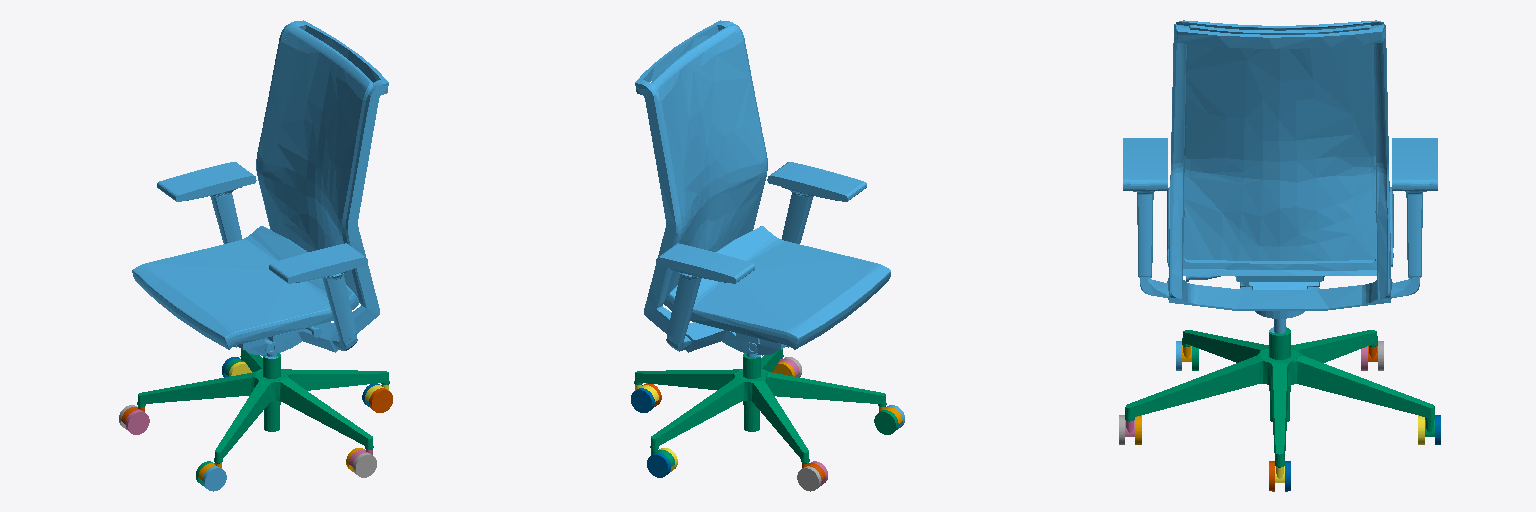
The robot description file, URDF, robot "partnet_99120ec1daa4ae1bad484915511ccff6":
<?xml version="1.0" encoding="utf-8"?>
<robot name="partnet_99120ec1daa4ae1bad484915511ccff6">
 <link name="base"/>
 <link name="link_0">
  <visual name="lever-76">
   <origin xyz="-0.12042415942996744 0.17889561294307413 0"/>
   <geometry>
    <mesh filename="textured_objs/original-30.obj"/>
   </geometry>
  </visual>
  <visual name="lever-76">
   <origin xyz="-0.12042415942996744 0.17889561294307413 0"/>
   <geometry>
    <mesh filename="textured_objs/original-32.obj"/>
   </geometry>
  </visual>
  <visual name="lever-76">
   <origin xyz="-0.12042415942996744 0.17889561294307413 0"/>
   <geometry>
    <mesh filename="textured_objs/original-31.obj"/>
   </geometry>
  </visual>
  <collision>
   <geometry>
    <mesh filename="cvx_objs/link_0.obj"/>
   </geometry>
  </collision>
 </link>
 <joint name="joint_0" type="revolute">
  <origin xyz="0.13219904197639668 -0.17889561294307413 -0.022481716908374236"/>
  <axis xyz="0 0 -1"/>
  <child link="link_0"/>
  <parent link="link_16"/>
  <limit lower="-0.0" upper="0.3204424506661591"/>
 </joint>
 <link name="link_1">
  <visual name="caster_stem-102">
   <origin xyz="0.5227210218181609 0 0.14397391162969364"/>
   <geometry>
    <mesh filename="textured_objs/original-46.obj"/>
   </geometry>
  </visual>
  <collision>
   <geometry>
    <mesh filename="cvx_objs/link_1.obj"/>
   </geometry>
  </collision>
 </link>
 <joint name="joint_1" type="continuous">
  <origin xyz="-0.5227210218181609 0 -0.14397391162969364"/>
  <axis xyz="0 1 0"/>
  <child link="link_1"/>
  <parent link="link_17"/>
 </joint>
 <link name="link_2">
  <visual name="wheel-103">
   <origin xyz="-0.0065671911528872055 0.7060431671475953 0.10813501688948095"/>
   <geometry>
    <mesh filename="textured_objs/original-44.obj"/>
   </geometry>
  </visual>
  <collision>
   <geometry>
    <mesh filename="cvx_objs/link_2.obj"/>
   </geometry>
  </collision>
 </link>
 <joint name="joint_2" type="continuous">
  <origin xyz="0.5292882129710481 -0.7060431671475953 0.03583889474021269"/>
  <axis xyz="0.9999566980936941 0.009305959844037686 -3.238730896646673e-05"/>
  <child link="link_2"/>
  <parent link="link_1"/>
 </joint>
 <link name="link_3">
  <visual name="wheel-104">
   <origin xyz="0 0.7107210056808267 0.10811899999999999"/>
   <geometry>
    <mesh filename="textured_objs/original-45.obj"/>
   </geometry>
  </visual>
  <collision>
   <geometry>
    <mesh filename="cvx_objs/link_3.obj"/>
   </geometry>
  </collision>
 </link>
 <joint name="joint_3" type="continuous">
  <origin xyz="0.5227210218181609 -0.7107210056808267 0.03585491162969365"/>
  <axis xyz="1 0 0"/>
  <child link="link_3"/>
  <parent link="link_1"/>
 </joint>
 <link name="link_4">
  <visual name="caster_stem-99">
   <origin xyz="0.32877011449438337 0 -0.4601039954670883"/>
   <geometry>
    <mesh filename="textured_objs/original-38.obj"/>
   </geometry>
  </visual>
  <collision>
   <geometry>
    <mesh filename="cvx_objs/link_4.obj"/>
   </geometry>
  </collision>
 </link>
 <joint name="joint_4" type="continuous">
  <origin xyz="-0.32877011449438337 0 0.4601039954670883"/>
  <axis xyz="0 1 0"/>
  <child link="link_4"/>
  <parent link="link_17"/>
 </joint>
 <link name="link_5">
  <visual name="wheel-100">
   <origin xyz="0 0.7107210056808267 -0.495245"/>
   <geometry>
    <mesh filename="textured_objs/original-36.obj"/>
   </geometry>
  </visual>
  <collision>
   <geometry>
    <mesh filename="cvx_objs/link_5.obj"/>
   </geometry>
  </collision>
 </link>
 <joint name="joint_5" type="continuous">
  <origin xyz="0.32877011449438337 -0.7107210056808267 0.03514100453291169"/>
  <axis xyz="-1 0 0"/>
  <child link="link_5"/>
  <parent link="link_4"/>
 </joint>
 <link name="link_6">
  <visual name="wheel-101">
   <origin xyz="0 0.7107210056808267 -0.495245"/>
   <geometry>
    <mesh filename="textured_objs/original-37.obj"/>
   </geometry>
  </visual>
  <collision>
   <geometry>
    <mesh filename="cvx_objs/link_6.obj"/>
   </geometry>
  </collision>
 </link>
 <joint name="joint_6" type="continuous">
  <origin xyz="0.32877011449438337 -0.7107210056808267 0.03514100453291169"/>
  <axis xyz="-1 0 0"/>
  <child link="link_6"/>
  <parent link="link_4"/>
 </joint>
 <link name="link_7">
  <visual name="caster_stem-96">
   <origin xyz="-0.30586192690503605 0 -0.4606418216372392"/>
   <geometry>
    <mesh filename="textured_objs/original-42.obj"/>
   </geometry>
  </visual>
  <collision>
   <geometry>
    <mesh filename="cvx_objs/link_7.obj"/>
   </geometry>
  </collision>
 </link>
 <joint name="joint_7" type="continuous">
  <origin xyz="0.30586192690503605 0 0.4606418216372392"/>
  <axis xyz="0 1 0"/>
  <child link="link_7"/>
  <parent link="link_17"/>
 </joint>
 <link name="link_8">
  <visual name="wheel-97">
   <origin xyz="0 0.7107210056808267 -0.495245"/>
   <geometry>
    <mesh filename="textured_objs/original-40.obj"/>
   </geometry>
  </visual>
  <collision>
   <geometry>
    <mesh filename="cvx_objs/link_8.obj"/>
   </geometry>
  </collision>
 </link>
 <joint name="joint_8" type="continuous">
  <origin xyz="-0.30586192690503605 -0.7107210056808267 0.03460317836276078"/>
  <axis xyz="-1 0 0"/>
  <child link="link_8"/>
  <parent link="link_7"/>
 </joint>
 <link name="link_9">
  <visual name="wheel-98">
   <origin xyz="0 0.7107210056808267 -0.495245"/>
   <geometry>
    <mesh filename="textured_objs/original-41.obj"/>
   </geometry>
  </visual>
  <collision>
   <geometry>
    <mesh filename="cvx_objs/link_9.obj"/>
   </geometry>
  </collision>
 </link>
 <joint name="joint_9" type="continuous">
  <origin xyz="-0.30586192690503605 -0.7107210056808267 0.03460317836276078"/>
  <axis xyz="-1 0 0"/>
  <child link="link_9"/>
  <parent link="link_7"/>
 </joint>
 <link name="link_10">
  <visual name="caster_stem-93">
   <origin xyz="0.010786704643964765 0 0.5170993392990177"/>
   <geometry>
    <mesh filename="textured_objs/original-54.obj"/>
   </geometry>
  </visual>
  <collision>
   <geometry>
    <mesh filename="cvx_objs/link_10.obj"/>
   </geometry>
  </collision>
 </link>
 <joint name="joint_10" type="continuous">
  <origin xyz="-0.010786704643964765 0 -0.5170993392990177"/>
  <axis xyz="0 1 0"/>
  <child link="link_10"/>
  <parent link="link_17"/>
 </joint>
 <link name="link_11">
  <visual name="wheel-94">
   <origin xyz="0 0.7107210056808267 0.481251"/>
   <geometry>
    <mesh filename="textured_objs/original-53.obj"/>
   </geometry>
  </visual>
  <collision>
   <geometry>
    <mesh filename="cvx_objs/link_11.obj"/>
   </geometry>
  </collision>
 </link>
 <joint name="joint_11" type="continuous">
  <origin xyz="0.010786704643964765 -0.7107210056808267 0.03584833929901776"/>
  <axis xyz="1 0 0"/>
  <child link="link_11"/>
  <parent link="link_10"/>
 </joint>
 <link name="link_12">
  <visual name="wheel-95">
   <origin xyz="0 0.7107210056808267 0.481251"/>
   <geometry>
    <mesh filename="textured_objs/original-52.obj"/>
   </geometry>
  </visual>
  <collision>
   <geometry>
    <mesh filename="cvx_objs/link_12.obj"/>
   </geometry>
  </collision>
 </link>
 <joint name="joint_12" type="continuous">
  <origin xyz="0.010786704643964765 -0.7107210056808267 0.03584833929901776"/>
  <axis xyz="1 0 0"/>
  <child link="link_12"/>
  <parent link="link_10"/>
 </joint>
 <link name="link_13">
  <visual name="caster_stem-87">
   <origin xyz="-0.502498314630747 0 0.14401355345049882"/>
   <geometry>
    <mesh filename="textured_objs/original-50.obj"/>
   </geometry>
  </visual>
  <collision>
   <geometry>
    <mesh filename="cvx_objs/link_13.obj"/>
   </geometry>
  </collision>
 </link>
 <joint name="joint_13" type="continuous">
  <origin xyz="0.502498314630747 0 -0.14401355345049882"/>
  <axis xyz="0 1 0"/>
  <child link="link_13"/>
  <parent link="link_17"/>
 </joint>
 <link name="link_14">
  <visual name="wheel-88">
   <origin xyz="0 0.7107210056808267 0.10811899999999999"/>
   <geometry>
    <mesh filename="textured_objs/original-48.obj"/>
   </geometry>
  </visual>
  <collision>
   <geometry>
    <mesh filename="cvx_objs/link_14.obj"/>
   </geometry>
  </collision>
 </link>
 <joint name="joint_14" type="continuous">
  <origin xyz="-0.502498314630747 -0.7107210056808267 0.03589455345049883"/>
  <axis xyz="-1 0 0"/>
  <child link="link_14"/>
  <parent link="link_13"/>
 </joint>
 <link name="link_15">
  <visual name="wheel-89">
   <origin xyz="0 0.7107210056808267 0.10811899999999999"/>
   <geometry>
    <mesh filename="textured_objs/original-49.obj"/>
   </geometry>
  </visual>
  <collision>
   <geometry>
    <mesh filename="cvx_objs/link_15.obj"/>
   </geometry>
  </collision>
 </link>
 <joint name="joint_15" type="continuous">
  <origin xyz="-0.502498314630747 -0.7107210056808267 0.03589455345049883"/>
  <axis xyz="-1 0 0"/>
  <child link="link_15"/>
  <parent link="link_13"/>
 </joint>
 <link name="link_16">
  <visual name="back_holistic_frame-67">
   <origin xyz="0.011774882546429223 0 -0.022481716908374236"/>
   <geometry>
    <mesh filename="textured_objs/new-10.obj"/>
   </geometry>
  </visual>
  <visual name="back_soft_surface-70">
   <origin xyz="0.011774882546429223 0 -0.022481716908374236"/>
   <geometry>
    <mesh filename="textured_objs/original-3.obj"/>
   </geometry>
  </visual>
  <visual name="back_soft_surface-70">
   <origin xyz="0.011774882546429223 0 -0.022481716908374236"/>
   <geometry>
    <mesh filename="textured_objs/original-2.obj"/>
   </geometry>
  </visual>
  <visual name="back_connector-69">
   <origin xyz="0.011774882546429223 0 -0.022481716908374236"/>
   <geometry>
    <mesh filename="textured_objs/new-9.obj"/>
   </geometry>
  </visual>
  <visual name="back_connector-69">
   <origin xyz="0.011774882546429223 0 -0.022481716908374236"/>
   <geometry>
    <mesh filename="textured_objs/original-27.obj"/>
   </geometry>
  </visual>
  <visual name="back_support-72">
   <origin xyz="0.011774882546429223 0 -0.022481716908374236"/>
   <geometry>
    <mesh filename="textured_objs/original-5.obj"/>
   </geometry>
  </visual>
  <visual name="armrest_soft_surface-58">
   <origin xyz="0.011774882546429223 0 -0.022481716908374236"/>
   <geometry>
    <mesh filename="textured_objs/original-18.obj"/>
   </geometry>
  </visual>
  <visual name="arm_vertical_bar-59">
   <origin xyz="0.011774882546429223 0 -0.022481716908374236"/>
   <geometry>
    <mesh filename="textured_objs/original-13.obj"/>
   </geometry>
  </visual>
  <visual name="arm_vertical_bar-59">
   <origin xyz="0.011774882546429223 0 -0.022481716908374236"/>
   <geometry>
    <mesh filename="textured_objs/original-16.obj"/>
   </geometry>
  </visual>
  <visual name="arm_horizontal_bar-60">
   <origin xyz="0.011774882546429223 0 -0.022481716908374236"/>
   <geometry>
    <mesh filename="textured_objs/original-15.obj"/>
   </geometry>
  </visual>
  <visual name="arm_connector-61">
   <origin xyz="0.011774882546429223 0 -0.022481716908374236"/>
   <geometry>
    <mesh filename="textured_objs/original-14.obj"/>
   </geometry>
  </visual>
  <visual name="armrest_soft_surface-50">
   <origin xyz="0.011774882546429223 0 -0.022481716908374236"/>
   <geometry>
    <mesh filename="textured_objs/original-17.obj"/>
   </geometry>
  </visual>
  <visual name="arm_vertical_bar-51">
   <origin xyz="0.011774882546429223 0 -0.022481716908374236"/>
   <geometry>
    <mesh filename="textured_objs/original-8.obj"/>
   </geometry>
  </visual>
  <visual name="arm_vertical_bar-51">
   <origin xyz="0.011774882546429223 0 -0.022481716908374236"/>
   <geometry>
    <mesh filename="textured_objs/original-11.obj"/>
   </geometry>
  </visual>
  <visual name="arm_horizontal_bar-52">
   <origin xyz="0.011774882546429223 0 -0.022481716908374236"/>
   <geometry>
    <mesh filename="textured_objs/original-10.obj"/>
   </geometry>
  </visual>
  <visual name="arm_connector-53">
   <origin xyz="0.011774882546429223 0 -0.022481716908374236"/>
   <geometry>
    <mesh filename="textured_objs/original-9.obj"/>
   </geometry>
  </visual>
  <visual name="seat_soft_surface-49">
   <origin xyz="0.011774882546429223 0 -0.022481716908374236"/>
   <geometry>
    <mesh filename="textured_objs/original-1.obj"/>
   </geometry>
  </visual>
  <visual name="seat_support-47">
   <origin xyz="0.011774882546429223 0 -0.022481716908374236"/>
   <geometry>
    <mesh filename="textured_objs/original-22.obj"/>
   </geometry>
  </visual>
  <visual name="seat_support-47">
   <origin xyz="0.011774882546429223 0 -0.022481716908374236"/>
   <geometry>
    <mesh filename="textured_objs/original-23.obj"/>
   </geometry>
  </visual>
  <visual name="seat_support-47">
   <origin xyz="0.011774882546429223 0 -0.022481716908374236"/>
   <geometry>
    <mesh filename="textured_objs/original-24.obj"/>
   </geometry>
  </visual>
  <visual name="seat_support-47">
   <origin xyz="0.011774882546429223 0 -0.022481716908374236"/>
   <geometry>
    <mesh filename="textured_objs/original-29.obj"/>
   </geometry>
  </visual>
  <visual name="seat_support-47">
   <origin xyz="0.011774882546429223 0 -0.022481716908374236"/>
   <geometry>
    <mesh filename="textured_objs/original-33.obj"/>
   </geometry>
  </visual>
  <visual name="seat_support-47">
   <origin xyz="0.011774882546429223 0 -0.022481716908374236"/>
   <geometry>
    <mesh filename="textured_objs/original-34.obj"/>
   </geometry>
  </visual>
  <visual name="seat_support-47">
   <origin xyz="0.011774882546429223 0 -0.022481716908374236"/>
   <geometry>
    <mesh filename="textured_objs/original-26.obj"/>
   </geometry>
  </visual>
  <visual name="seat_support-47">
   <origin xyz="0.011774882546429223 0 -0.022481716908374236"/>
   <geometry>
    <mesh filename="textured_objs/original-25.obj"/>
   </geometry>
  </visual>
  <visual name="seat_support-47">
   <origin xyz="0.011774882546429223 0 -0.022481716908374236"/>
   <geometry>
    <mesh filename="textured_objs/original-28.obj"/>
   </geometry>
  </visual>
  <visual name="central_support-7">
   <origin xyz="0.011774882546429223 0 -0.022481716908374236"/>
   <geometry>
    <mesh filename="textured_objs/new-8.obj"/>
   </geometry>
  </visual>
  <collision>
   <geometry>
    <mesh filename="cvx_objs/link_16.obj"/>
   </geometry>
  </collision>
 </link>
 <joint name="joint_16" type="continuous">
  <origin xyz="0.0 0 0.0"/>
  <axis xyz="0 1 0"/>
  <child link="link_16"/>
  <parent link="link_16_helper"/>
 </joint>
 <link name="link_17">
  <visual name="central_support-8">
   <origin xyz="0 0 0"/>
   <geometry>
    <mesh filename="textured_objs/new-7.obj"/>
   </geometry>
  </visual>
  <visual name="central_support-8">
   <origin xyz="0 0 0"/>
   <geometry>
    <mesh filename="textured_objs/new-5.obj"/>
   </geometry>
  </visual>
  <visual name="central_support-9">
   <origin xyz="0 0 0"/>
   <geometry>
    <mesh filename="textured_objs/new-6.obj"/>
   </geometry>
  </visual>
  <visual name="leg-77">
   <origin xyz="0 0 0"/>
   <geometry>
    <mesh filename="textured_objs/new-0.obj"/>
   </geometry>
  </visual>
  <visual name="leg-78">
   <origin xyz="0 0 0"/>
   <geometry>
    <mesh filename="textured_objs/new-4.obj"/>
   </geometry>
  </visual>
  <visual name="leg-79">
   <origin xyz="0 0 0"/>
   <geometry>
    <mesh filename="textured_objs/new-3.obj"/>
   </geometry>
  </visual>
  <visual name="leg-80">
   <origin xyz="0 0 0"/>
   <geometry>
    <mesh filename="textured_objs/new-2.obj"/>
   </geometry>
  </visual>
  <visual name="leg-81">
   <origin xyz="0 0 0"/>
   <geometry>
    <mesh filename="textured_objs/new-1.obj"/>
   </geometry>
  </visual>
  <collision>
   <geometry>
    <mesh filename="cvx_objs/link_17.obj"/>
   </geometry>
  </collision>
 </link>
 <joint name="joint_17" type="fixed">
  <origin rpy="1.570796326794897 0 -1.570796326794897" xyz="0 0 0"/>
  <child link="link_17"/>
  <parent link="base"/>
 </joint>
 <link name="link_16_helper"/>
 <joint name="joint_18" type="prismatic">
  <origin xyz="-0.011774882546429223 0 0.022481716908374236"/>
  <axis xyz="0 -1 0"/>
  <child link="link_16_helper"/>
  <parent link="link_17"/>
  <limit lower="0" upper="0.06800000000000006"/>
 </joint>
</robot>

--- Facts derived from the render (not from the file) ---
The picture shows the robot from 3 angles, left to right: view 1: azimuth 30°, elevation 25°; view 2: azimuth 150°, elevation 25°; view 3: azimuth 270°, elevation 25°; orthographic projection.
Model partnet_99120ec1daa4ae1bad484915511ccff6 with 20 links and 19 joints (1 revolute, 16 continuous, 1 prismatic, 1 fixed), rooted at base, posed all joints at 0.
Links seen in each view (by area): view 1: link_16, link_17; view 2: link_16, link_17; view 3: link_16, link_17.
Link boxes in pixels (bbox=[...]): link_16: bbox=[132, 20, 388, 358]; link_17: bbox=[137, 349, 389, 463]; link_16: bbox=[635, 20, 890, 357]; link_17: bbox=[634, 349, 886, 463]; link_16: bbox=[1123, 20, 1437, 333]; link_17: bbox=[1125, 327, 1434, 467].
Bounding box of the posed robot: 1.08 × 1.1 × 1.67 m (x, y, z).
Meshes: 53 distinct files referenced, 53 mesh visuals loaded (53 OBJ).
